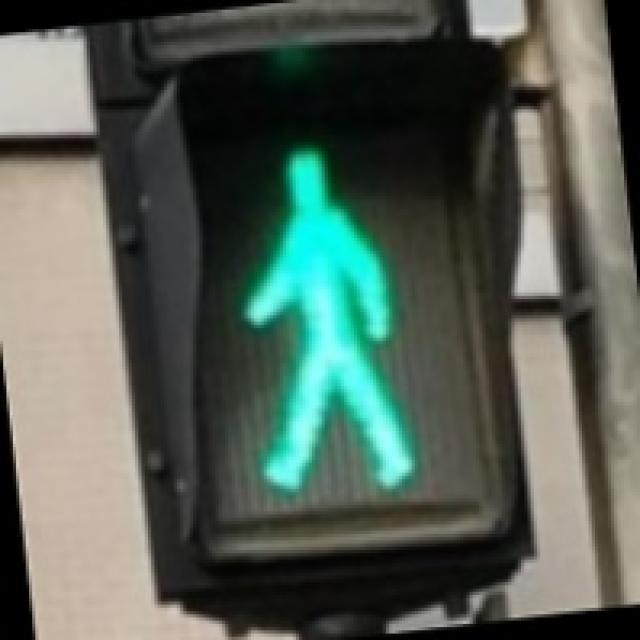geen-crossing: (158, 86, 472, 544)
